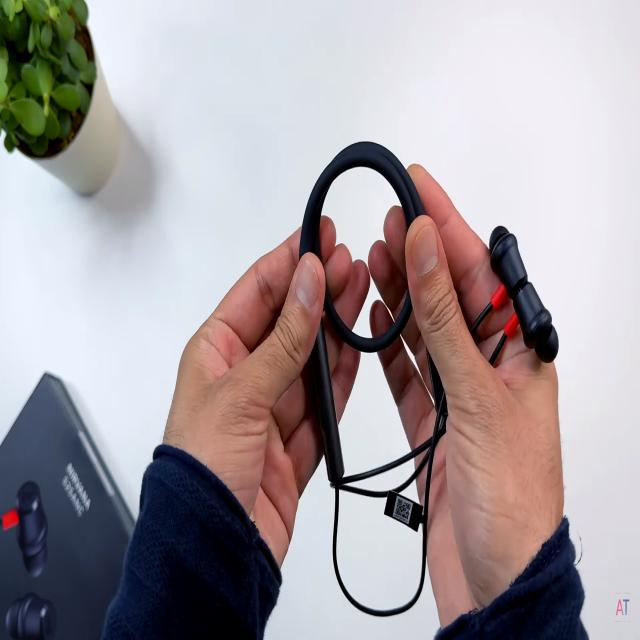Neckband: (299, 140, 559, 618)
